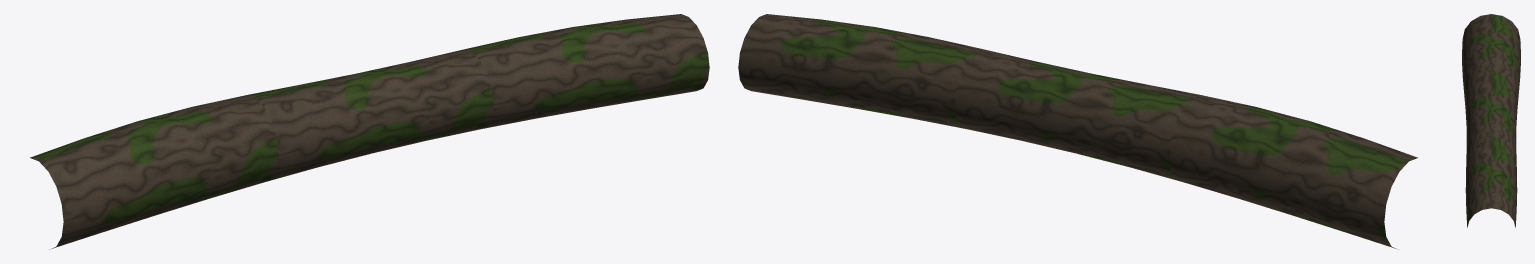
File: fallen_log.glb
3 views of the same model, side by side, from view 1: azimuth 30°, elevation 25°; view 2: azimuth 150°, elevation 25°; view 3: azimuth 270°, elevation 25° (orthographic). The views are drawn at different scales.
Parts seen in each view (by area): view 1: Log; view 2: Log; view 3: Log.
Boxes of the visible parts, x1,y1,x2,y2 form: Log: [30, 14, 709, 249]; Log: [738, 14, 1417, 249]; Log: [1462, 14, 1520, 227].
Bounding box in the file's own units: 3.2 × 0.4541 × 0.4278.
1 material, 1 textured.
